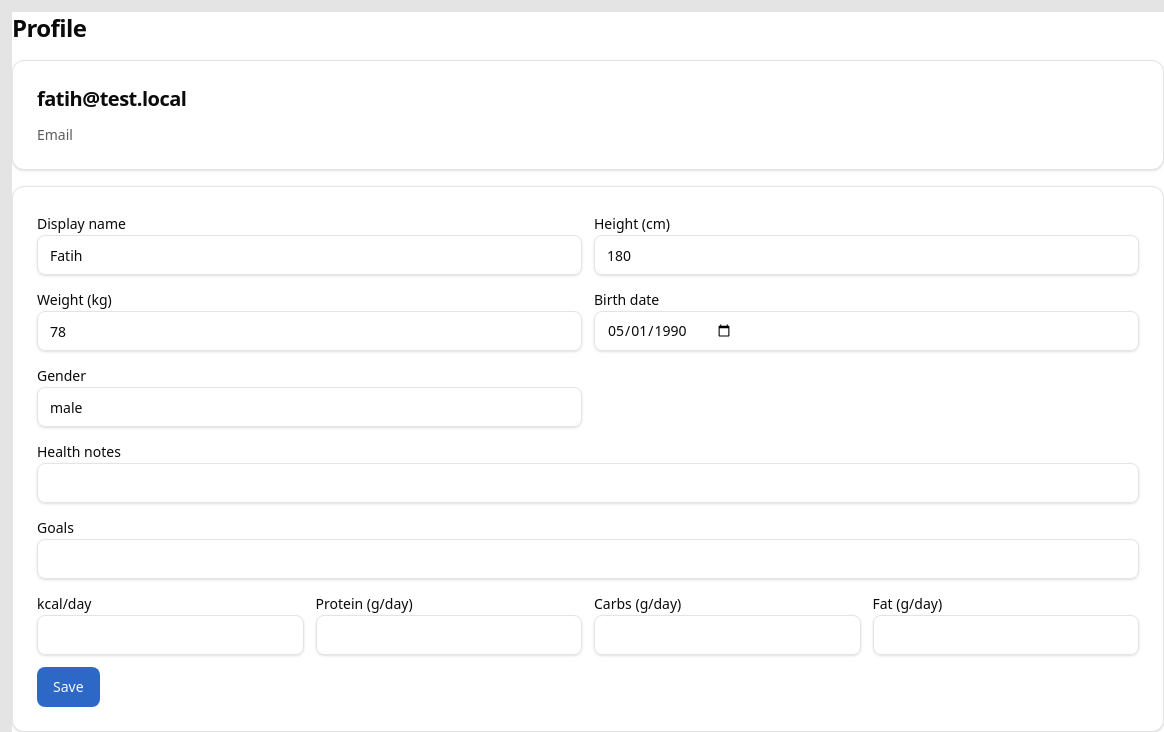
Test: ProfileClient › shows an error flash when the save request fails
Expected: the field labelled "Display name" holds "Fatih", [37,235,582,275]
Click the button "Save": click(68, 687) [37,667,100,707]
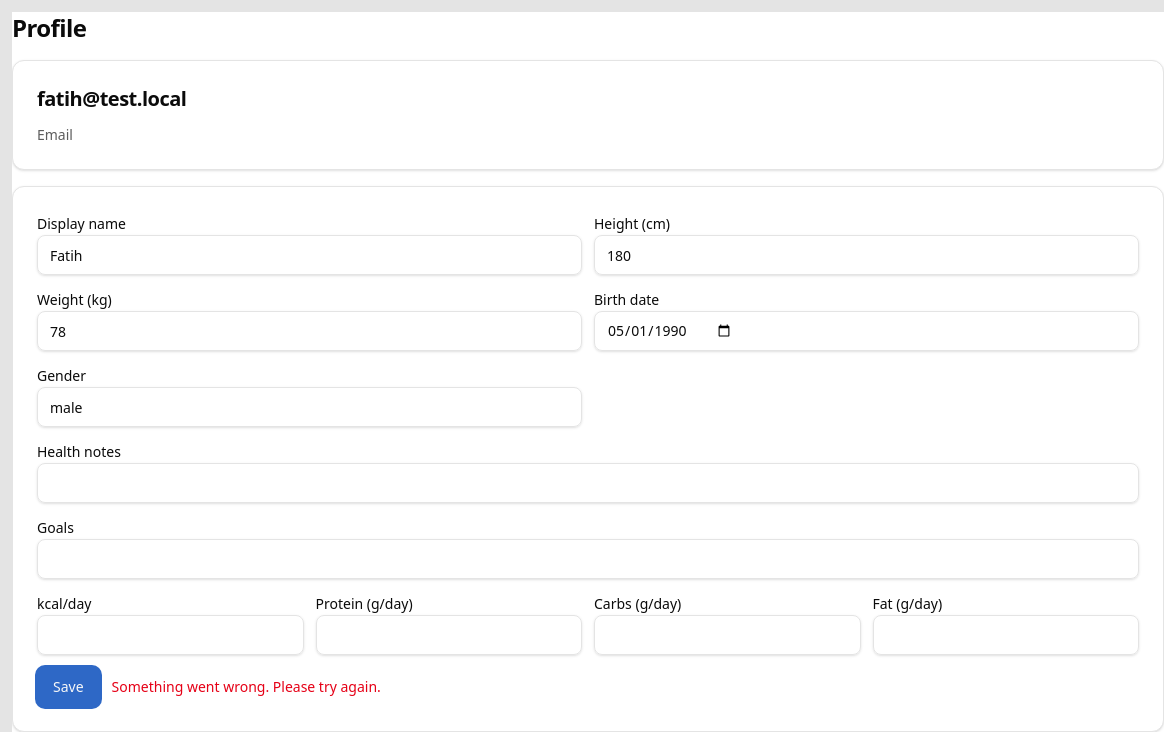
Result: the message "Something went wrong. Please try again." is shown at [112,677,381,697]
Result: the message reads "Something went wrong. Please try again." at [112,677,381,696]
